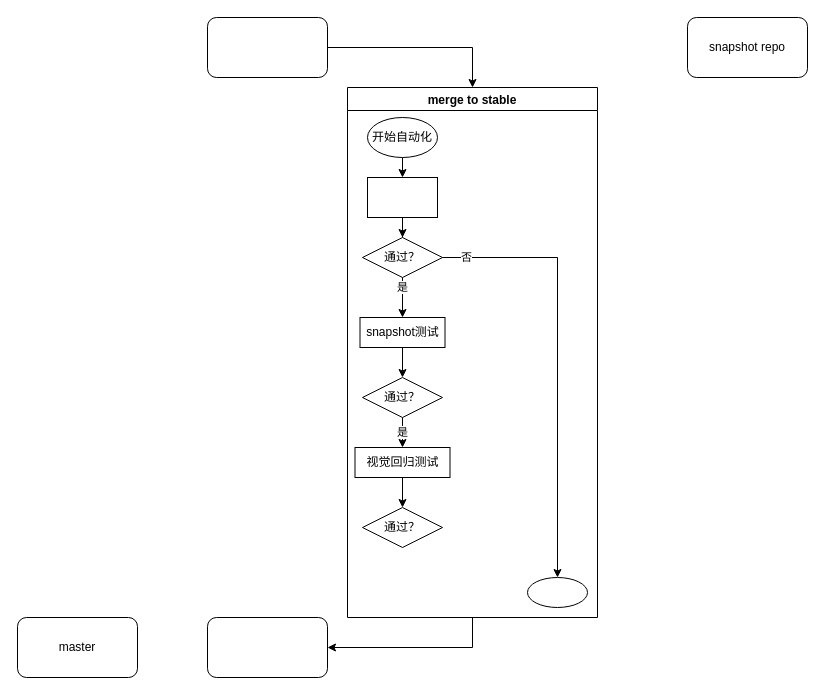
This 825x695 diagram has some shape labels left out. The shapes that lost their labels are listed below. From the top down, each one's centre as x and y in pixels, then its label:
the point at 267,47: dev
the point at 402,197: 运行单测
the point at 557,592: 结束
the point at 267,647: stable
